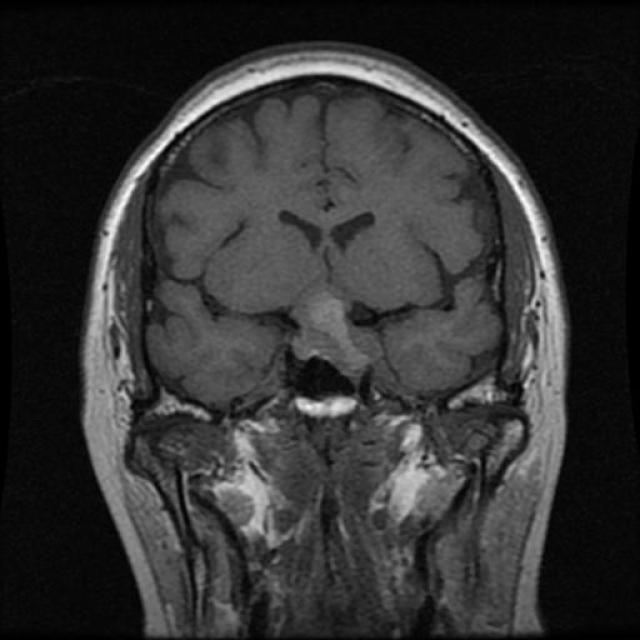pituitary: (240, 350, 405, 434)
